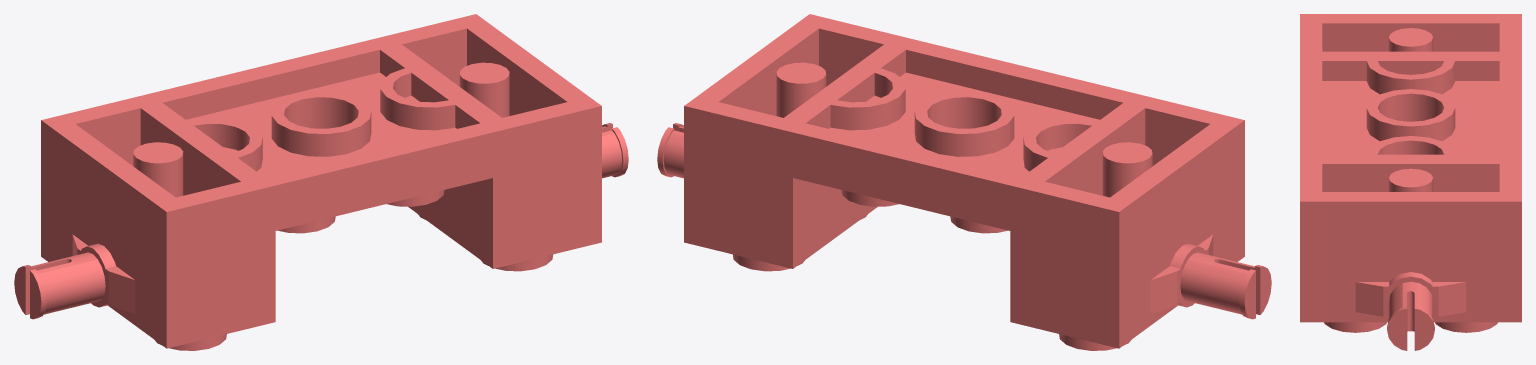
3 views of the same model, side by side, from view 1: azimuth 30°, elevation 25°; view 2: azimuth 150°, elevation 25°; view 3: azimuth 270°, elevation 25° (orthographic). The views are drawn at different scales.
Visible parts, largest first — view 1: LDrawPart; view 2: LDrawPart; view 3: LDrawPart.
Part boxes in pixels (<box>): LDrawPart: <box>14,14,628,350</box>; LDrawPart: <box>657,14,1271,350</box>; LDrawPart: <box>1300,14,1521,350</box>.
Size of the model in its own units: 0.756 by 0.196 by 0.28.
